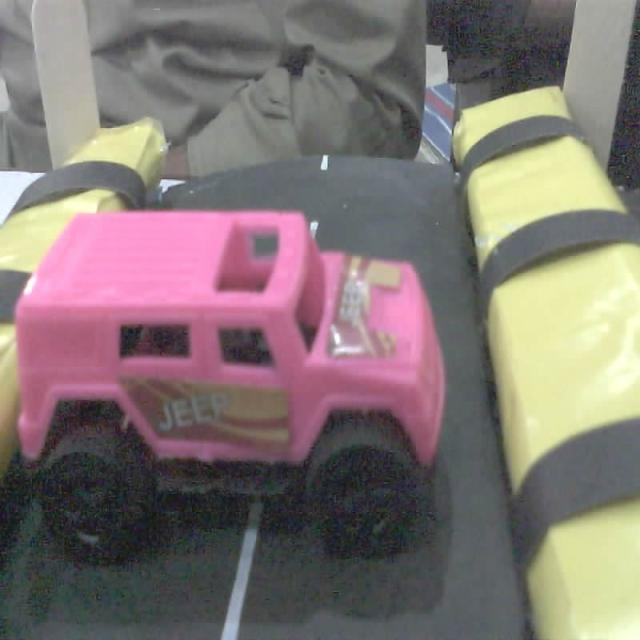OneCar: (14, 186, 462, 577)
